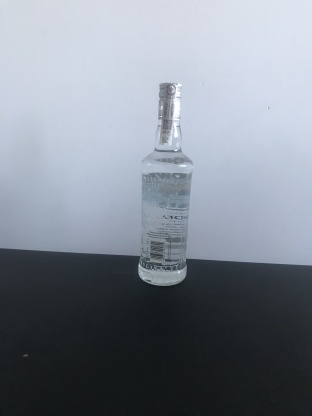nakretka: (156, 79, 183, 123)
